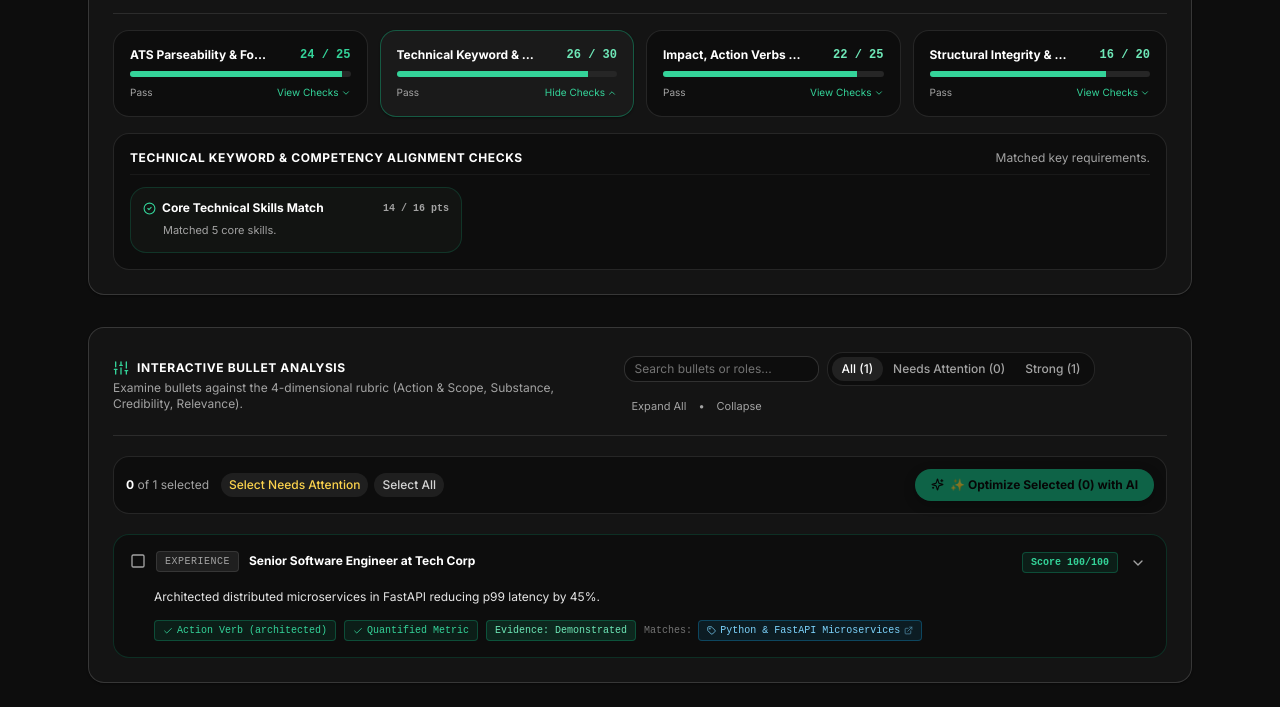
Scenario: ScannerPage ATS Evaluation Suite › selects bullets, opens modal, and applies selected to resume with direct recompile ($0 AI cost)
(page scrolled)
expect the text "Architected distributed microservices in FastAPI reducing p99 latency by 45%." is shown: met, box [154,589,600,604]
Click the button "Select All" at (409, 485), box [374,473,444,497]
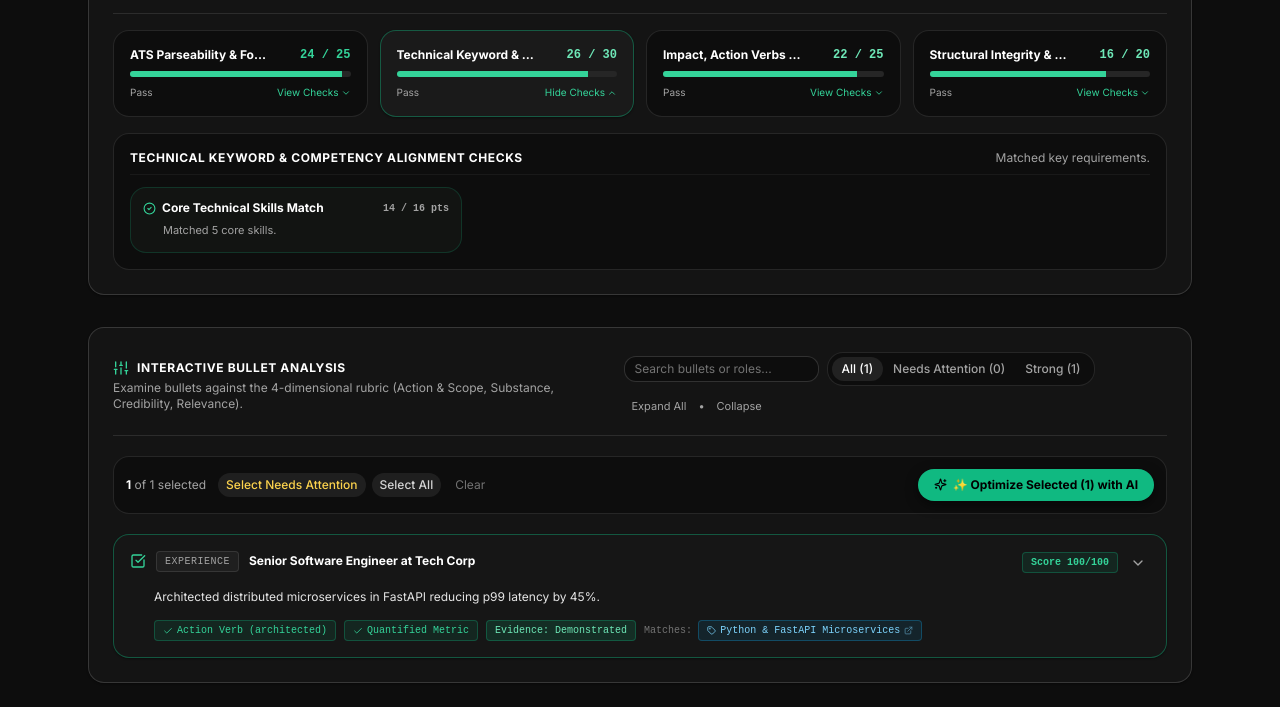
expect the button "✨ Optimize Selected (1) with AI" is shown: met
Click the button "✨ Optimize Selected (1) with AI" at (1036, 485), box [918,469,1154,501]
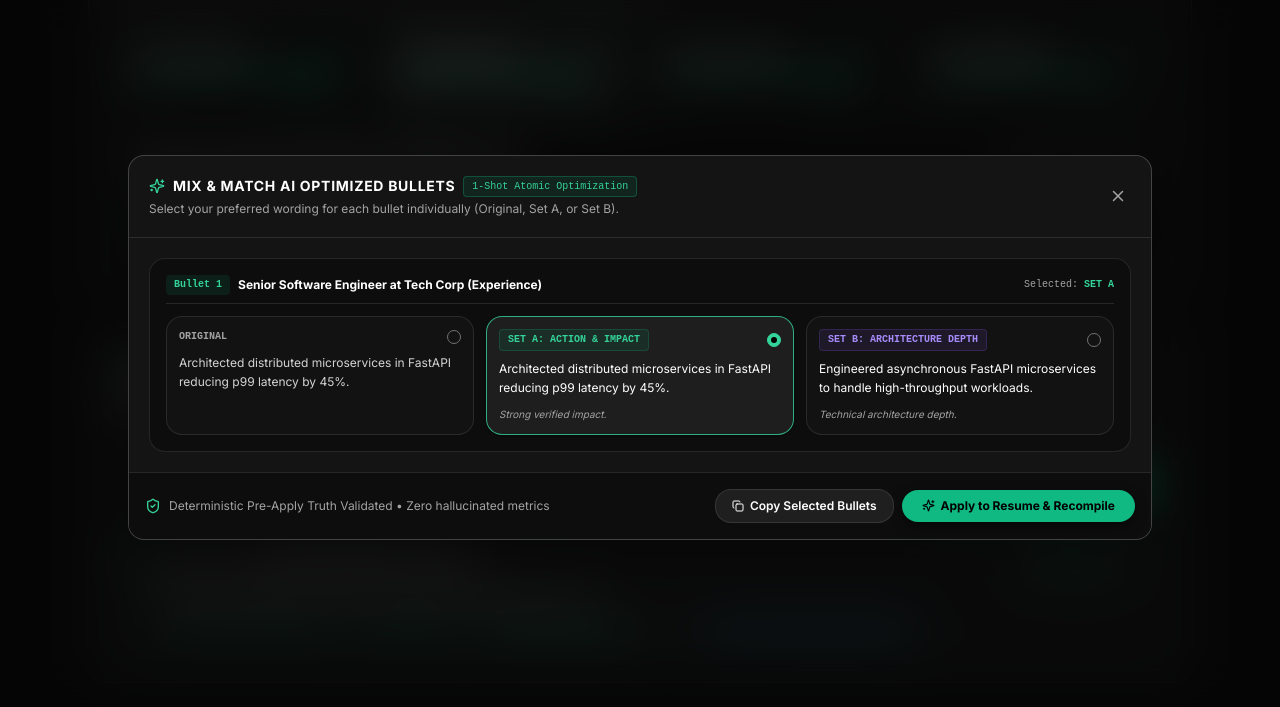
expect the heading "Mix & Match AI Optimized Bullets" is shown: met, box [173,176,455,196]
expect the text "Set A: Action & Impact" is shown: met, box [499,328,649,350]
expect the text "Set B: Architecture Depth" is shown: met, box [819,328,987,350]
Click the button "Apply to Resume & Recompile" at (1018, 506), box [902,490,1135,522]
(page scrolled)
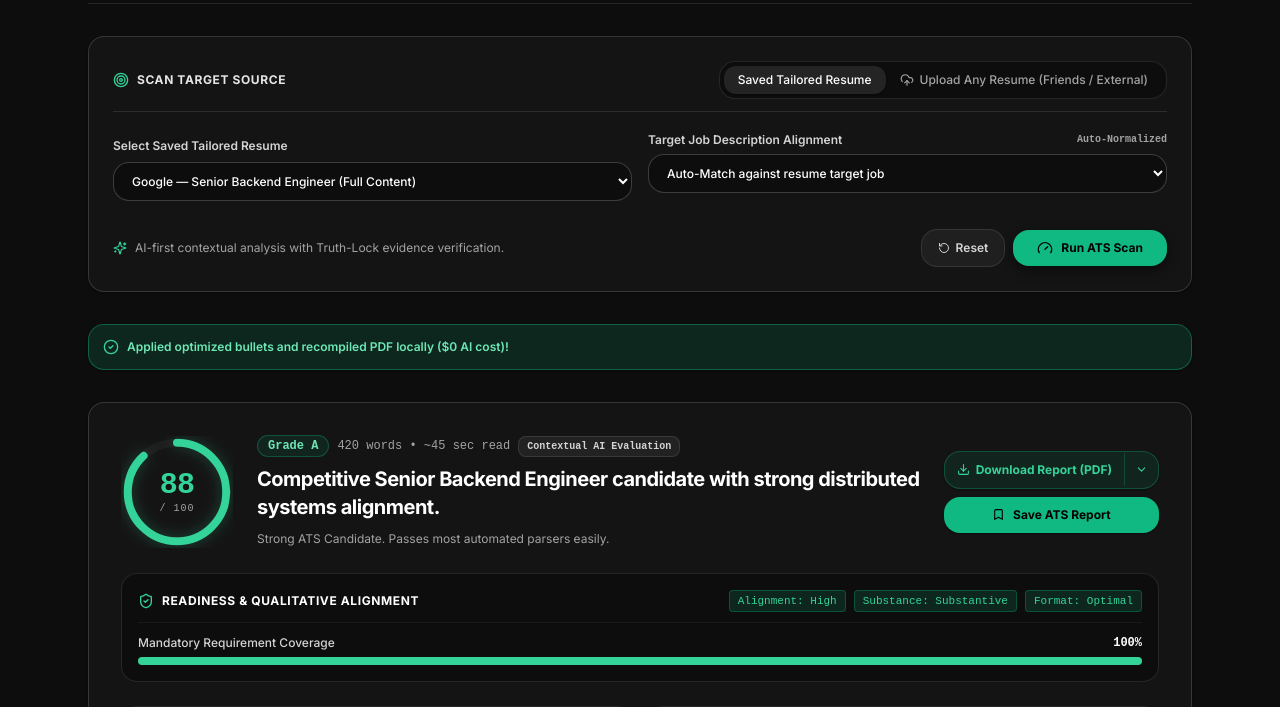
expect the text "Applied optimized bullets and recompiled PDF locally" is shown: met, box [127,339,509,354]
